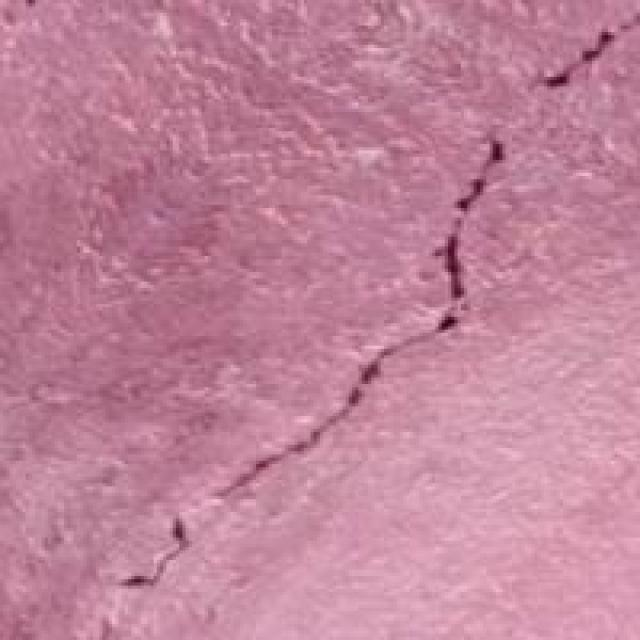crack: (89, 19, 636, 602)
